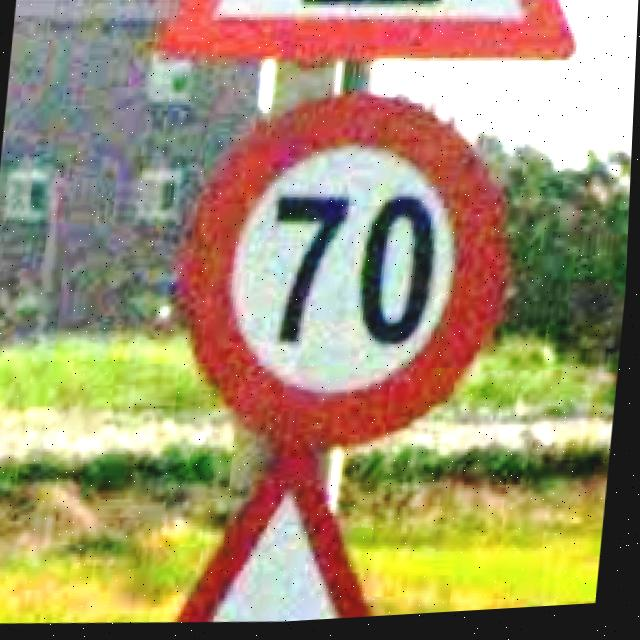max70: (161, 74, 532, 471)
